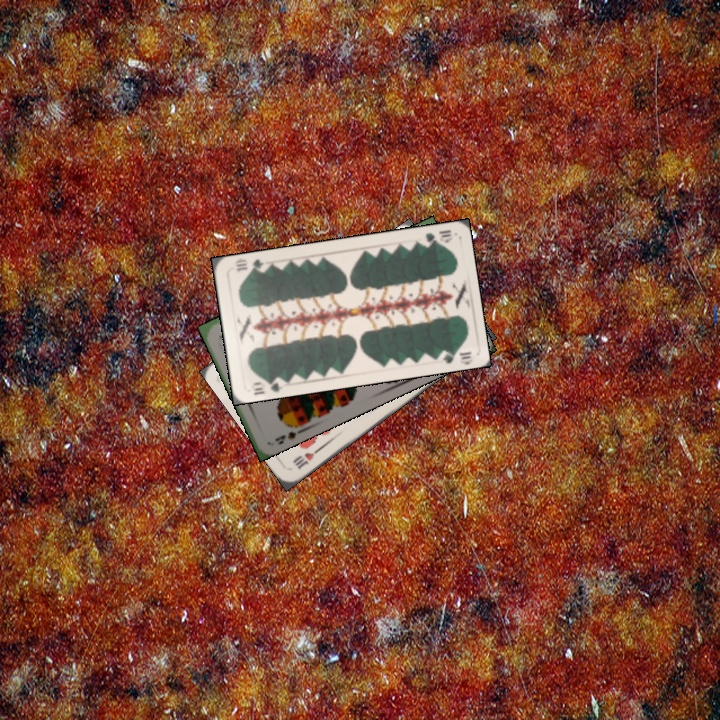G10: (247, 373, 286, 397), (421, 226, 455, 248)
H10: (289, 443, 324, 472)
S9: (271, 417, 307, 447)
